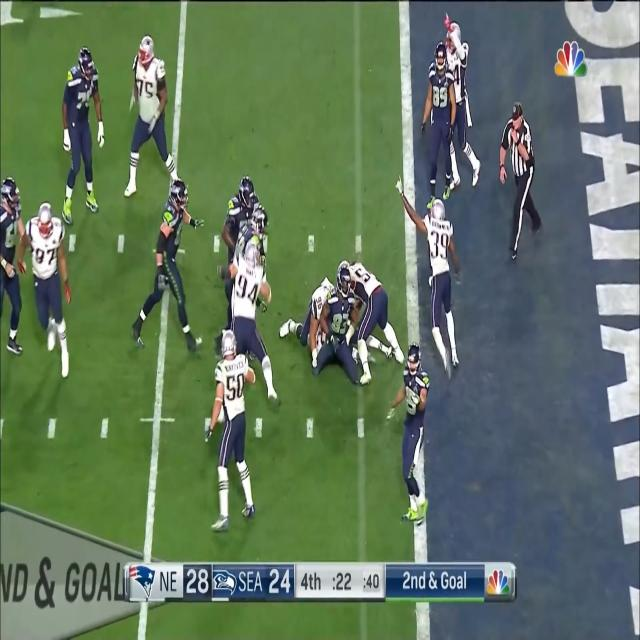players: (135, 180, 203, 348), (210, 327, 262, 536), (120, 37, 175, 200), (227, 229, 275, 415), (25, 194, 71, 373), (340, 256, 404, 384), (57, 49, 104, 223), (218, 176, 266, 342), (423, 194, 463, 384), (304, 269, 368, 387), (394, 342, 432, 530), (0, 169, 32, 368), (444, 20, 480, 181), (293, 270, 345, 372), (426, 50, 453, 203)
